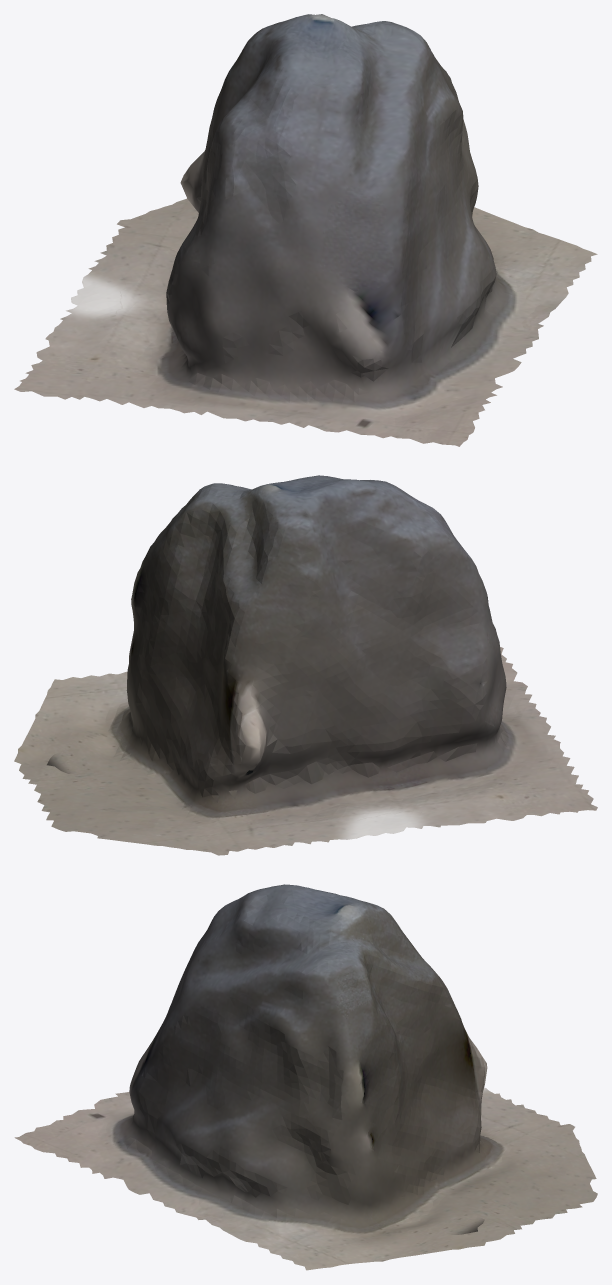
File: blue_rock.dae
The picture shows the model from 3 angles, top to bottom: view 1: azimuth 30°, elevation 25°; view 2: azimuth 150°, elevation 25°; view 3: azimuth 270°, elevation 25°; orthographic projection. The views are drawn at different scales.
Visible parts, largest first — view 1: textured_003; view 2: textured_003; view 3: textured_003.
Part boxes in pixels (box(x1,y1,x2,y2)): textured_003: box(14, 14, 597, 446); textured_003: box(14, 475, 597, 855); textured_003: box(14, 884, 597, 1270).
Bounding box in the file's own units: 0.7992 × 0.7841 × 0.3826.
5 materials, 5 textured.
